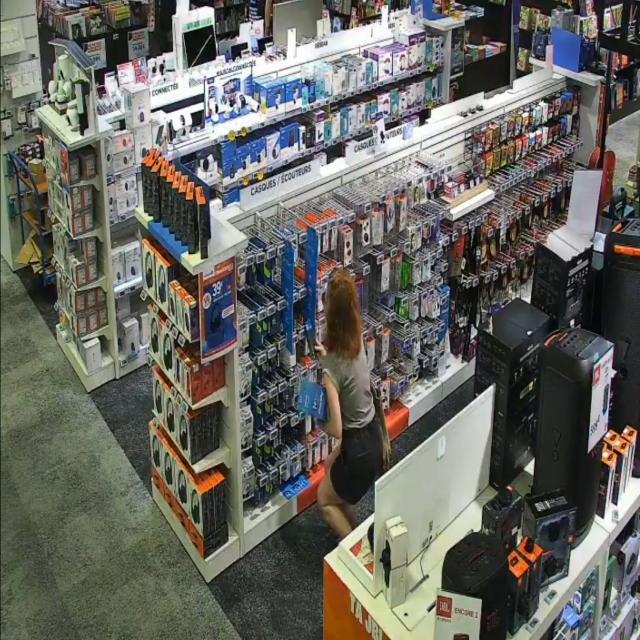article: (295, 382, 328, 421), (304, 319, 318, 361)
bags: (371, 386, 390, 474)
hands: (315, 343, 326, 357)
person: (317, 270, 388, 538)
